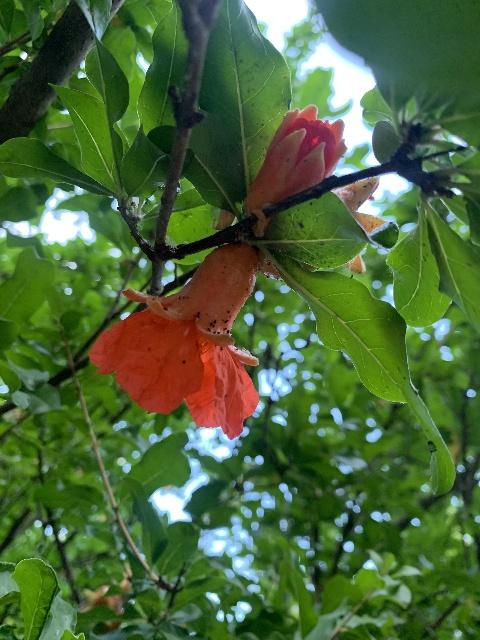flower: (89, 243, 260, 439), (246, 104, 345, 218)
